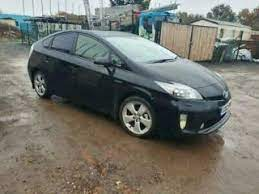Toyota: (28, 23, 233, 140)
